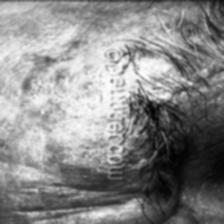Unclassified: (23, 50, 104, 190), (147, 44, 211, 200), (68, 0, 211, 43)
